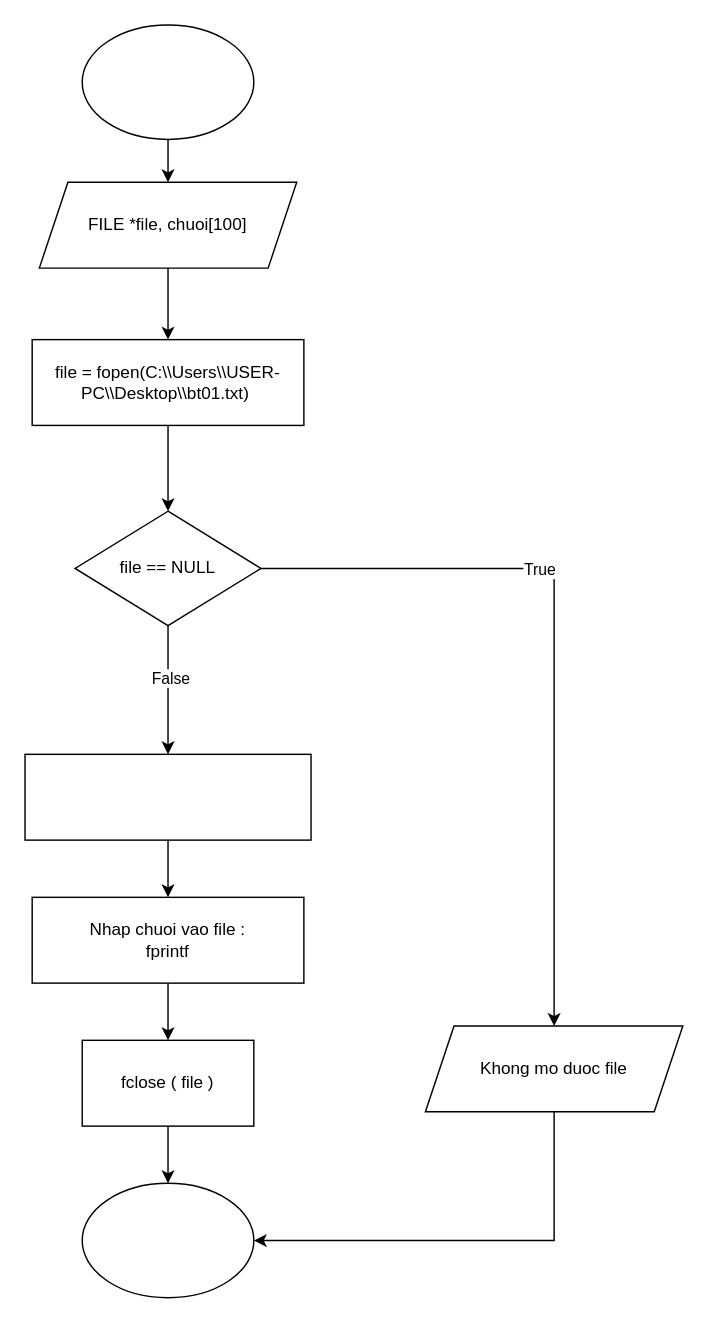
The diagram is 708 pixels wide and 1323 high, and some of its shapes have lost their labels. The shapes that lost their labels are listed below. From the top down, each one's box as (x1, y1, x2, y2) in pixels, then its label:
(81, 24, 254, 139): Start
(24, 753, 311, 840): Nhap chuoi : fgets
(81, 1182, 254, 1298): END
